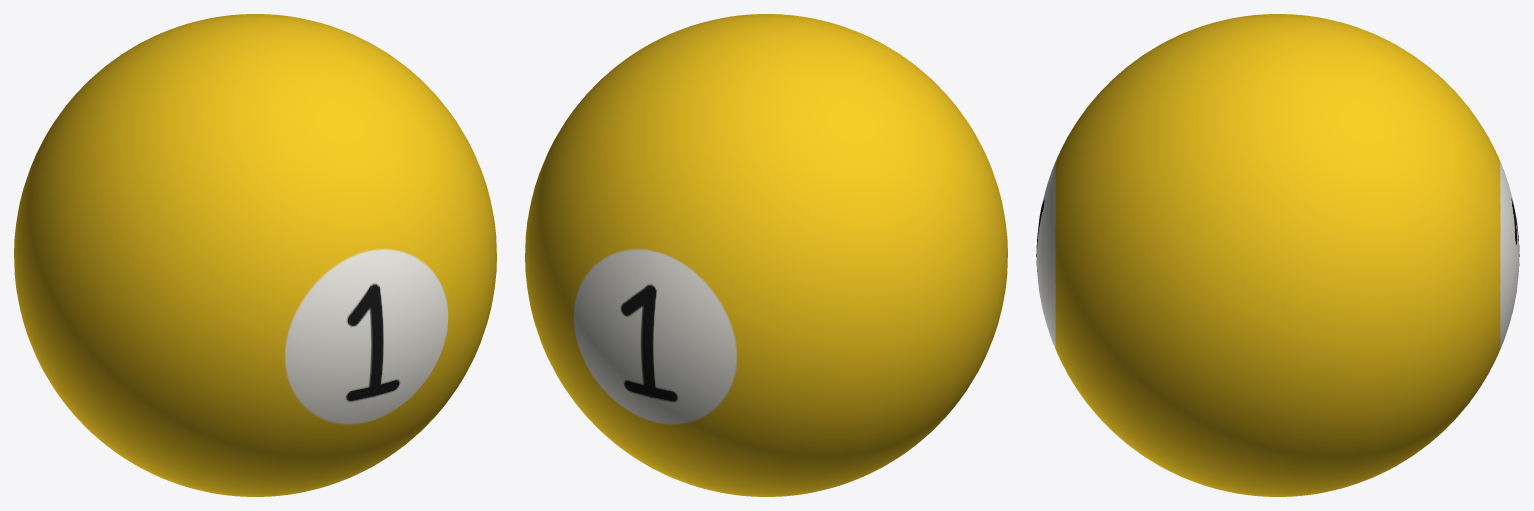
Rendered from ball-01.gltf.
The picture shows the model from 3 angles, left to right: view 1: azimuth 30°, elevation 25°; view 2: azimuth 150°, elevation 25°; view 3: azimuth 270°, elevation 25°; orthographic projection.
Parts seen in each view (by area): view 1: Ball_01; view 2: Ball_01; view 3: Ball_01.
Part boxes in pixels (bbox=[...]): Ball_01: bbox=[14, 14, 496, 496]; Ball_01: bbox=[525, 14, 1007, 496]; Ball_01: bbox=[1036, 14, 1519, 496].
Size of the model in its own units: 0.1 by 0.1 by 0.1.
Materials: 1 (1 with a texture image).
